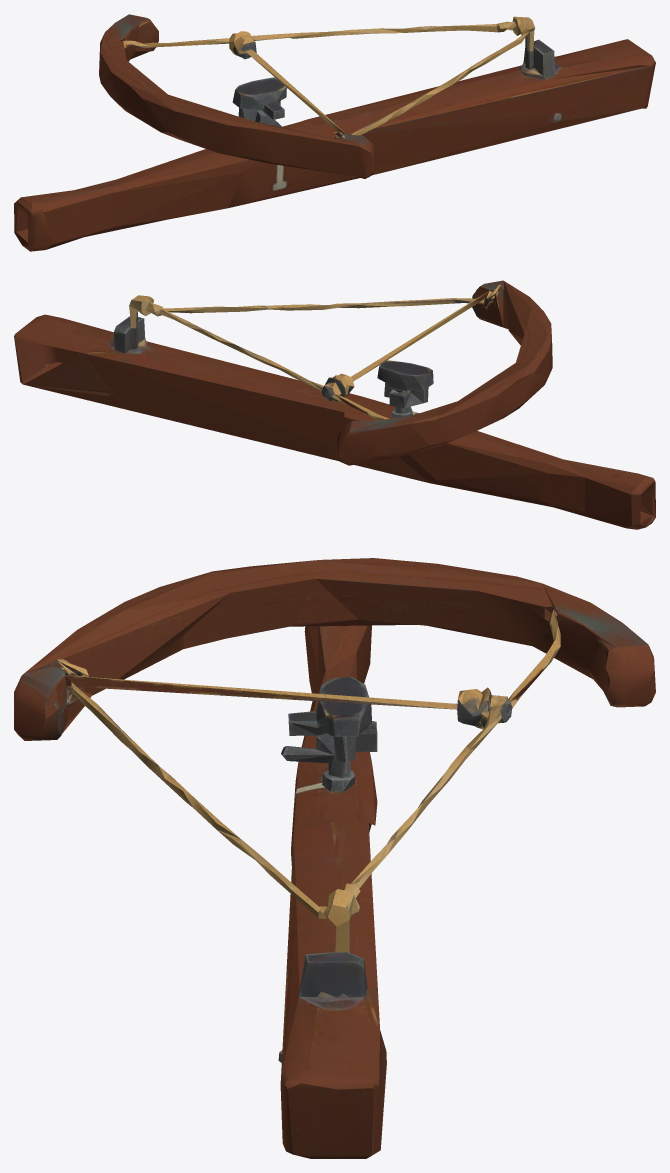
File: wpn_no.glb
3 views of the same model, one above another, from view 1: azimuth 30°, elevation 25°; view 2: azimuth 150°, elevation 25°; view 3: azimuth 270°, elevation 25° (orthographic). The views are drawn at different scales.
Bounding box in the file's own units: 1.9 × 0.3842 × 1.04.
Materials: 1 (1 with a texture image).
